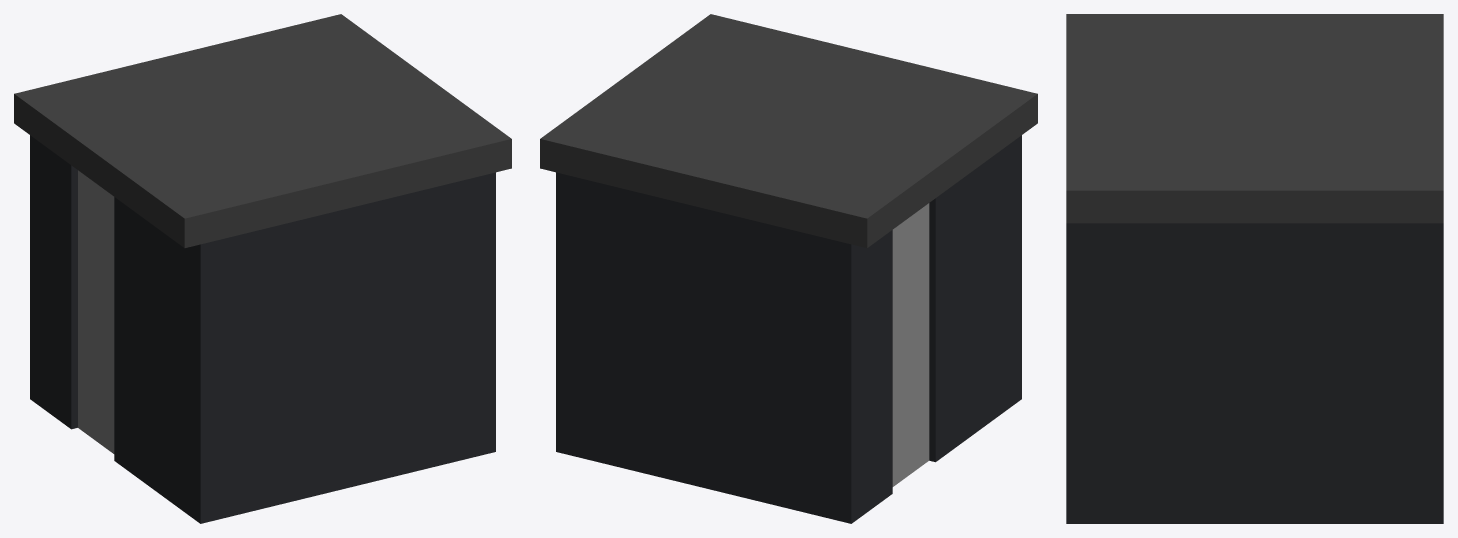
File: Building_02.FBX
3 views of the same model, side by side, from view 1: azimuth 30°, elevation 25°; view 2: azimuth 150°, elevation 25°; view 3: azimuth 270°, elevation 25° (orthographic). The views are drawn at different scales.
Parts seen in each view (by area): view 1: Building_02_LOD0; view 2: Building_02_LOD0; view 3: Building_02_LOD0.
Boxes of the visible parts, x1,y1,x2,y2 form: Building_02_LOD0: (14,14,511,523); Building_02_LOD0: (540,14,1037,523); Building_02_LOD0: (1066,14,1443,523).
Size of what is drawn, in the model's own units: 199 by 180 by 180.
